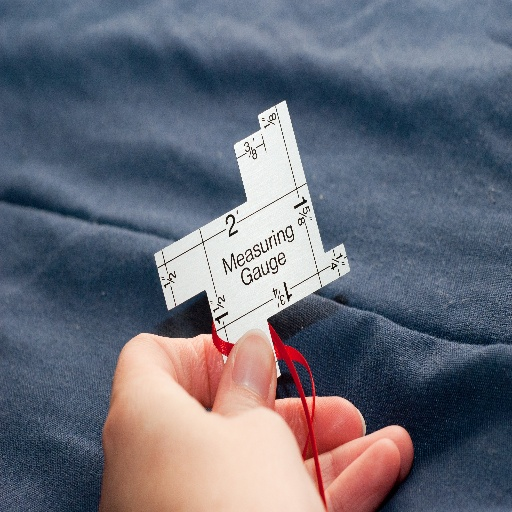hand: (85, 326, 390, 512)
